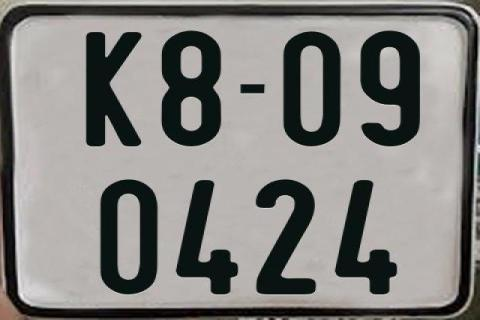0: (176, 180, 243, 299), (357, 29, 423, 149), (256, 180, 321, 298), (158, 28, 223, 145), (332, 180, 397, 295), (99, 177, 160, 297), (284, 29, 344, 145)
K: (85, 32, 147, 146)
